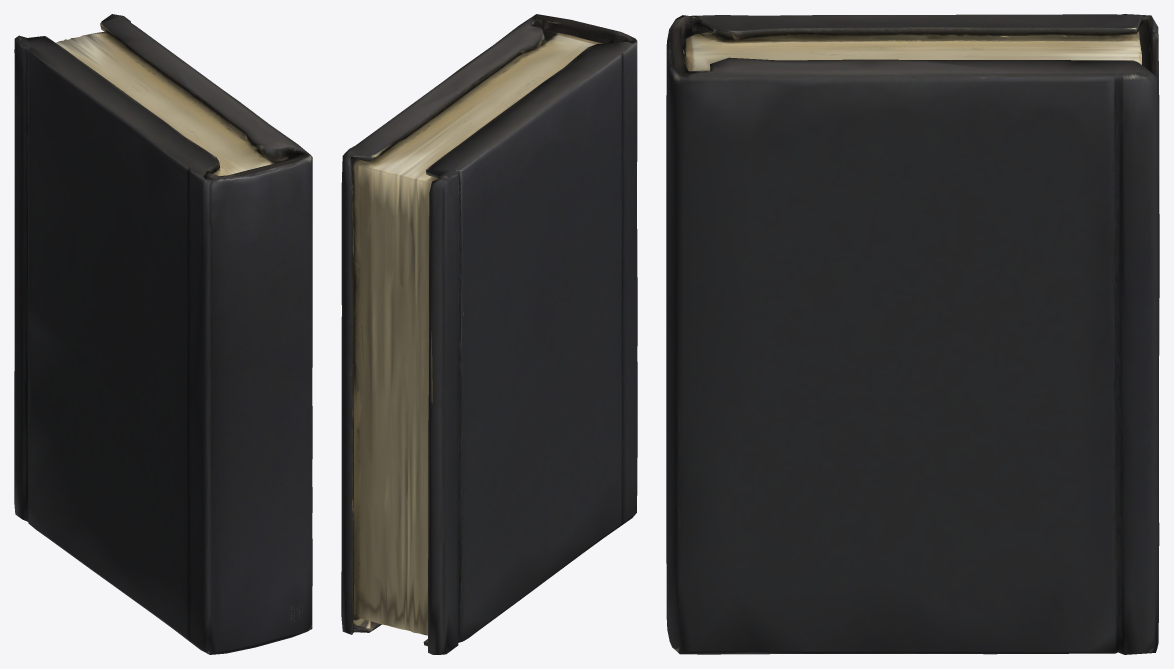
File: Black_Hardcover_Noteb_0629212354_texture.glb
3 renders of one model, left to right at view 1: azimuth 30°, elevation 25°; view 2: azimuth 150°, elevation 25°; view 3: azimuth 270°, elevation 25°, orthographic. The views are drawn at different scales.
Size of the model in its own units: 0.4771 by 2 by 1.53.
Materials: 1 (1 with a texture image).
